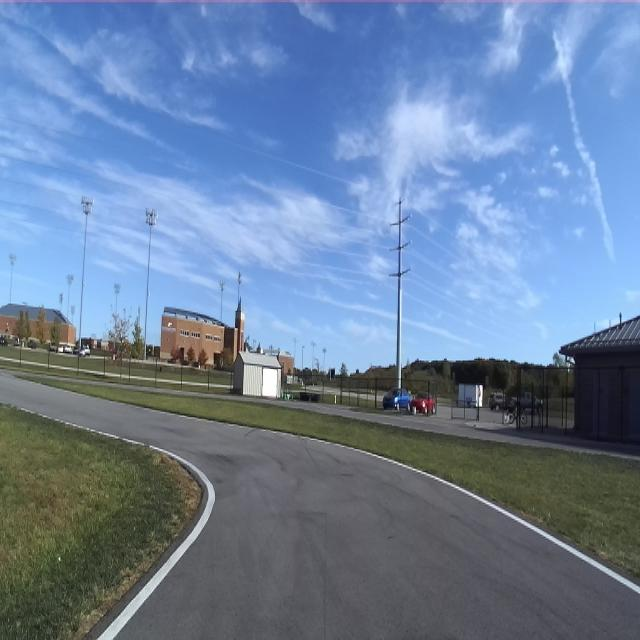white-line: (300, 436, 640, 594), (18, 407, 216, 639)
